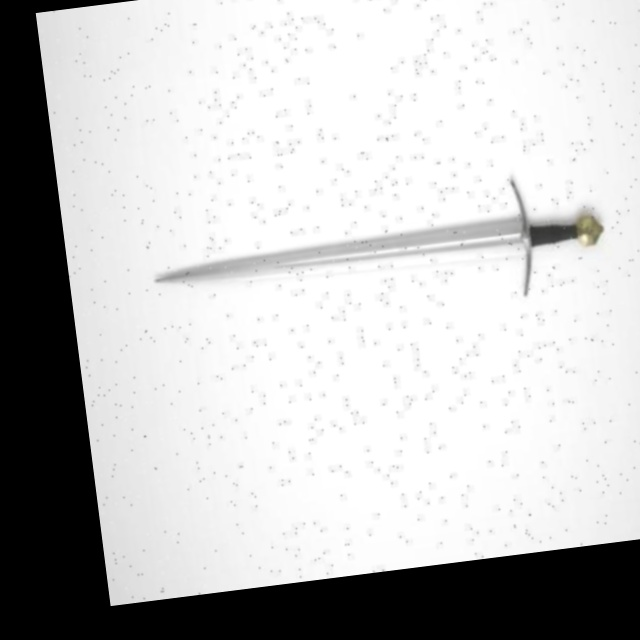Sharp-Object: (132, 192, 613, 308)
